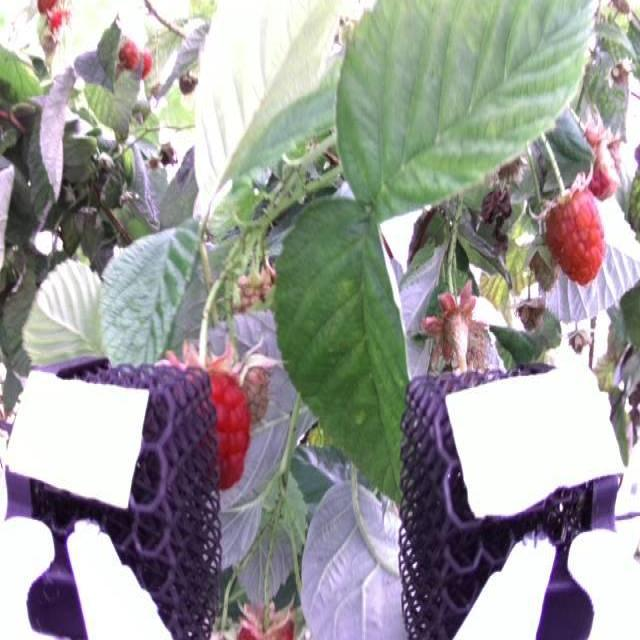Riped berries: (538, 186, 615, 286), (210, 354, 258, 488)
